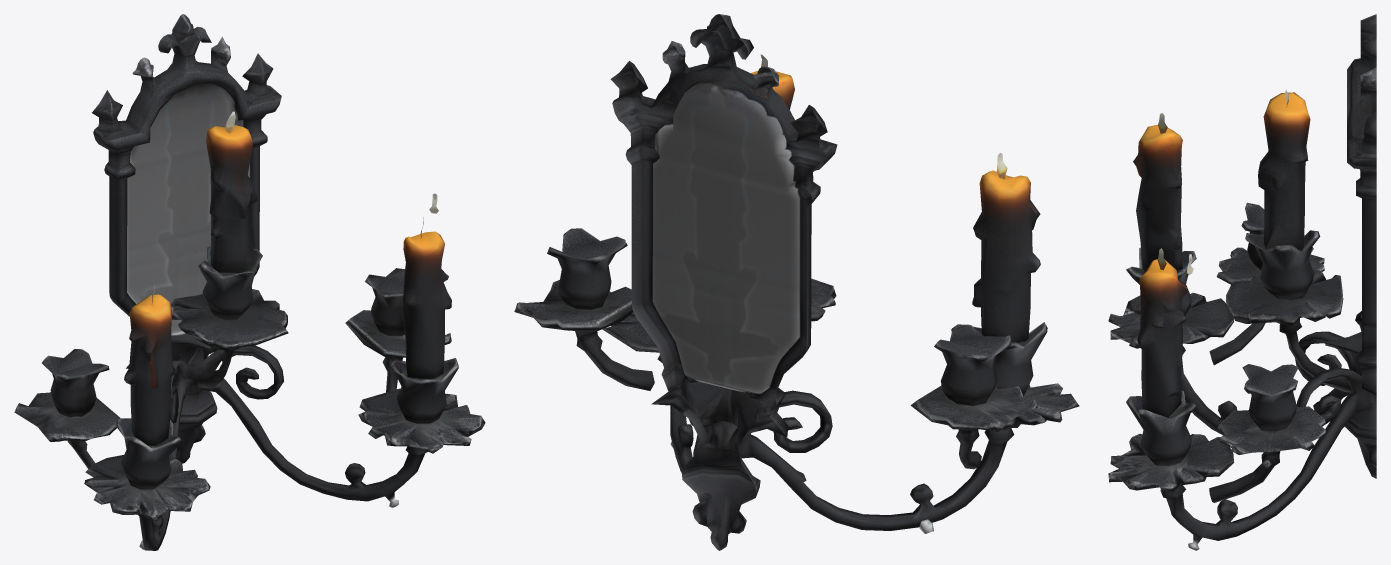
Rendered from applique.glb.
3 views of the same model, side by side, from view 1: azimuth 30°, elevation 25°; view 2: azimuth 150°, elevation 25°; view 3: azimuth 270°, elevation 25° (orthographic). The views are drawn at different scales.
Parts seen in each view (by area): view 1: applique; view 2: applique; view 3: applique.
Part boxes in pixels (x1=…): applique: x1=14, y1=14, x2=485, y2=550; applique: x1=514, y1=14, x2=1079, y2=550; applique: x1=1108, y1=14, x2=1376, y2=550.
Size of the model in its own units: 0.9302 by 0.9995 by 0.5112.
1 material, 1 textured.
